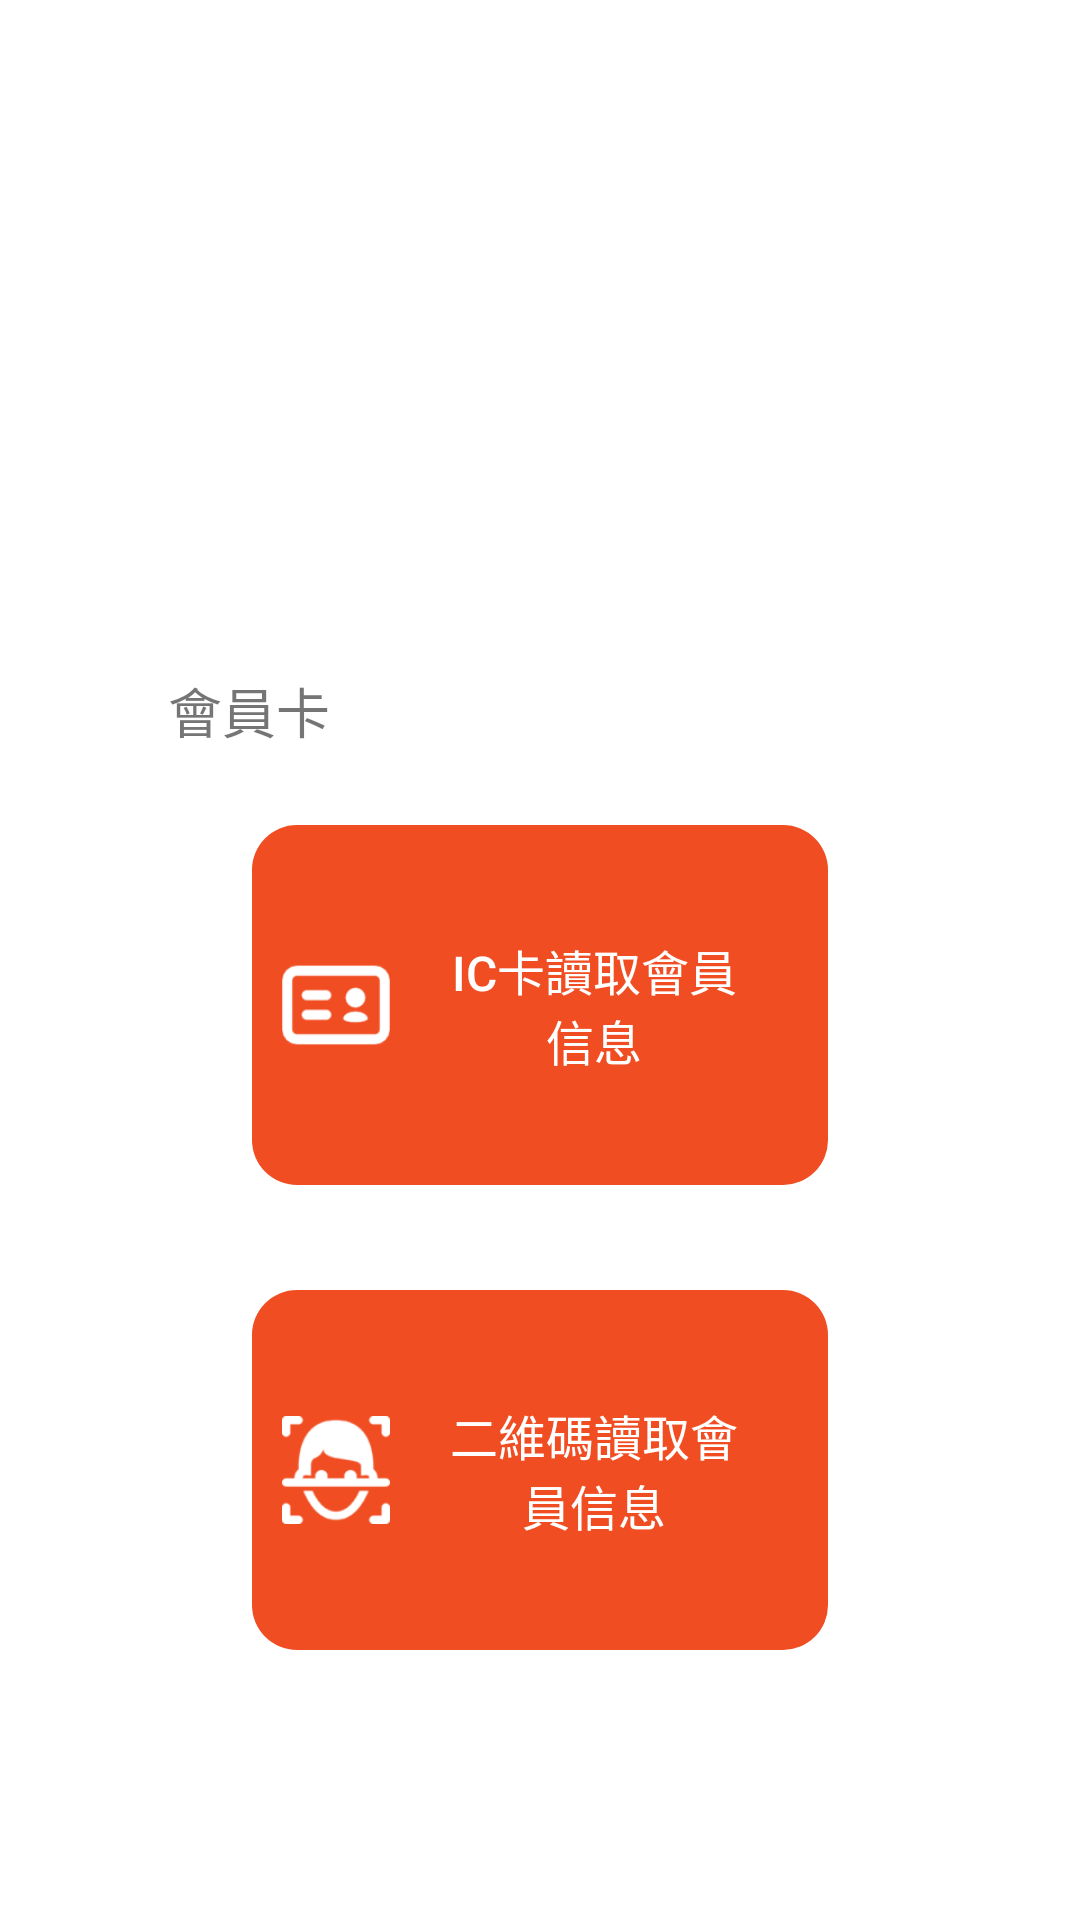

Named icons in this screenshot (1080px×1920px) and their centers, (x,y):
pic cardic: (336,1005)
pic cardscan: (336,1470)
